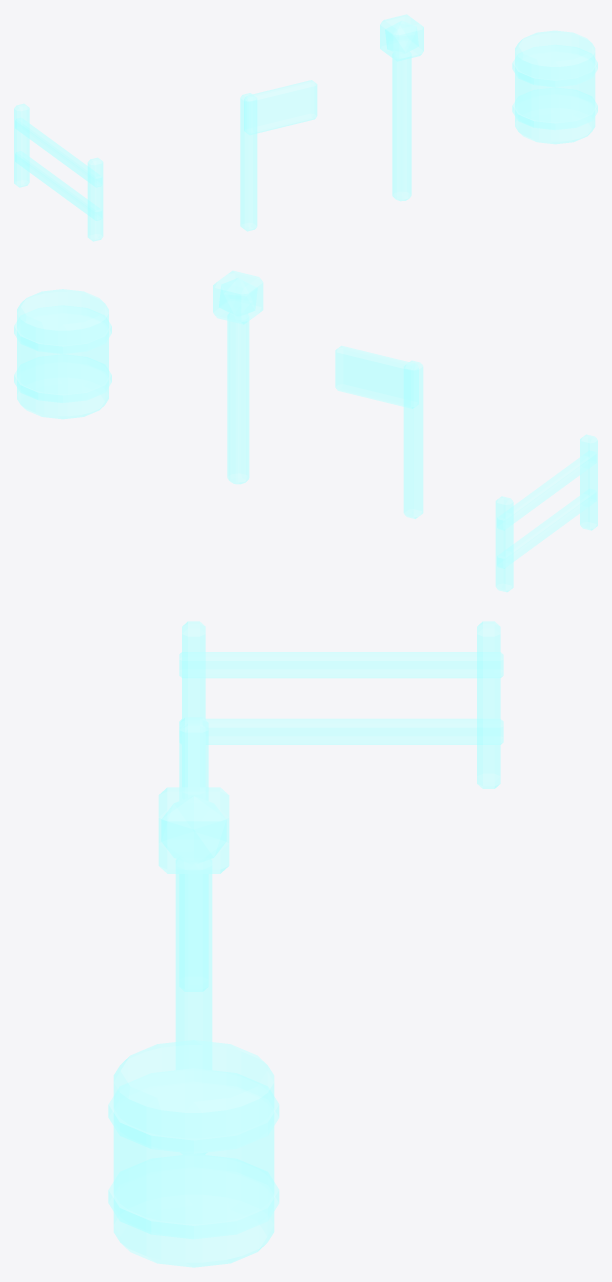
Rendered from GH_Dressing_PropsKit.fbx.
3 renders of one model, top to bottom at view 1: azimuth 30°, elevation 25°; view 2: azimuth 150°, elevation 25°; view 3: azimuth 270°, elevation 25°, orthographic. The views are drawn at different scales.
Parts seen in each view (by area): view 1: SM_prop_barrel, SM_prop_signpost, SM_prop_fence, SM_prop_lamp; view 2: SM_prop_barrel, SM_prop_signpost, SM_prop_lamp, SM_prop_fence; view 3: SM_prop_barrel, SM_prop_fence, SM_prop_lamp, SM_prop_signpost.
Part boxes in pixels (box(x1,y1,x2,y2)): SM_prop_barrel: box(512, 30, 597, 144); SM_prop_signpost: box(240, 80, 317, 231); SM_prop_fence: box(14, 103, 103, 241); SM_prop_lamp: box(380, 14, 423, 201); SM_prop_barrel: box(14, 289, 111, 419); SM_prop_signpost: box(335, 346, 423, 518); SM_prop_lamp: box(213, 270, 263, 484); SM_prop_fence: box(495, 434, 597, 592); SM_prop_barrel: box(108, 1040, 279, 1267); SM_prop_fence: box(179, 621, 503, 788); SM_prop_lamp: box(158, 787, 229, 1154); SM_prop_signpost: box(179, 717, 208, 991).
Size of the model in its own units: 3.94 by 1.33 by 1.34.
